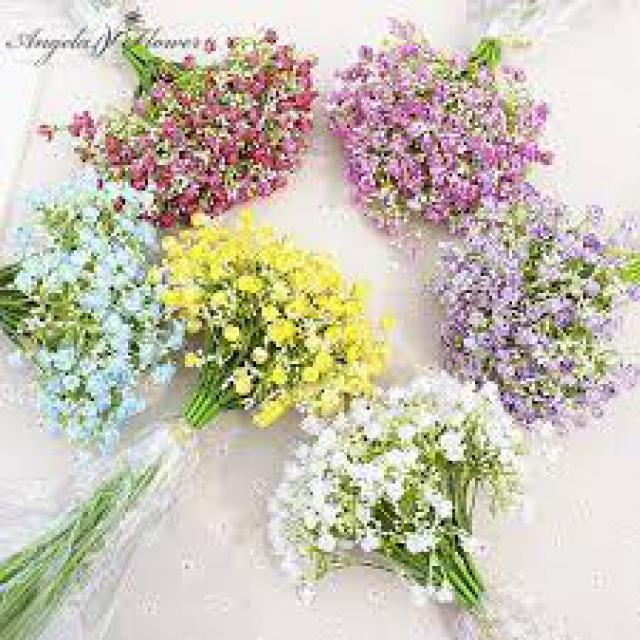gypsophila: (261, 373, 537, 592)
